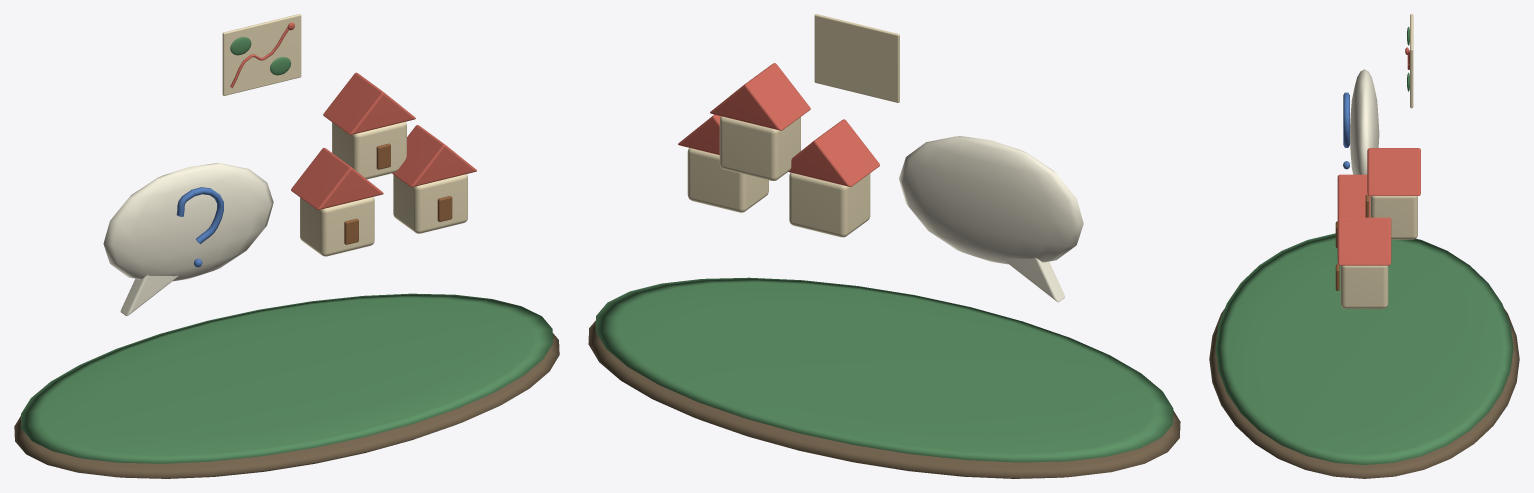
File: complete-third-which-village.glb
The picture shows the model from 3 angles, left to right: view 1: azimuth 30°, elevation 25°; view 2: azimuth 150°, elevation 25°; view 3: azimuth 270°, elevation 25°; orthographic projection. The views are drawn at different scales.
Visible parts, largest first — view 1: complete-third-which-village_surface_01, complete-third-which-village_surface_02, complete-third-which-village_surface_04, complete-third-which-village_surface_05, complete-third-which-village_surface_00, complete-third-which-village_surface_06, complete-third-which-village_surface_03; view 2: complete-third-which-village_surface_01, complete-third-which-village_surface_02, complete-third-which-village_surface_04, complete-third-which-village_surface_00, complete-third-which-village_surface_05; view 3: complete-third-which-village_surface_01, complete-third-which-village_surface_05, complete-third-which-village_surface_00, complete-third-which-village_surface_04, complete-third-which-village_surface_02, complete-third-which-village_surface_03.
Part boxes in pixels (x1,y1,x2,y2): complete-third-which-village_surface_01: (21, 37, 552, 463); complete-third-which-village_surface_02: (103, 163, 273, 316); complete-third-which-village_surface_04: (222, 14, 467, 256); complete-third-which-village_surface_05: (230, 22, 476, 209); complete-third-which-village_surface_00: (14, 333, 559, 478); complete-third-which-village_surface_06: (344, 143, 452, 244); complete-third-which-village_surface_03: (176, 187, 223, 267); complete-third-which-village_surface_01: (595, 277, 1173, 462); complete-third-which-village_surface_02: (899, 136, 1083, 302); complete-third-which-village_surface_04: (687, 14, 899, 237); complete-third-which-village_surface_00: (588, 320, 1180, 478); complete-third-which-village_surface_05: (678, 63, 879, 186); complete-third-which-village_surface_01: (1215, 26, 1513, 464); complete-third-which-village_surface_05: (1337, 47, 1420, 265); complete-third-which-village_surface_00: (1209, 308, 1519, 478); complete-third-which-village_surface_04: (1340, 14, 1417, 308); complete-third-which-village_surface_02: (1350, 69, 1379, 174); complete-third-which-village_surface_03: (1343, 92, 1349, 169).
Size of the model in its own units: 4.56 by 3.04 by 2.5.
